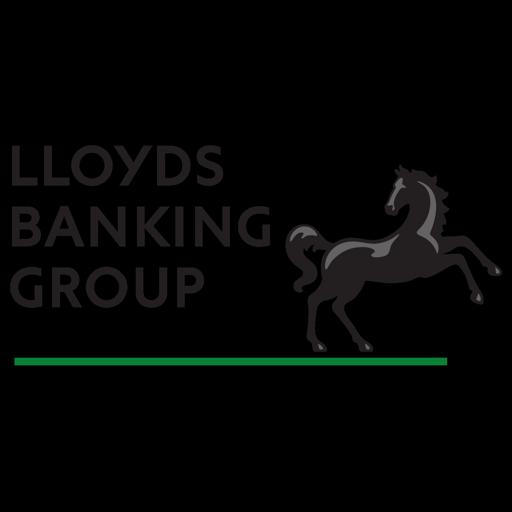Lloyds TSB Group: (0, 135, 512, 376)
